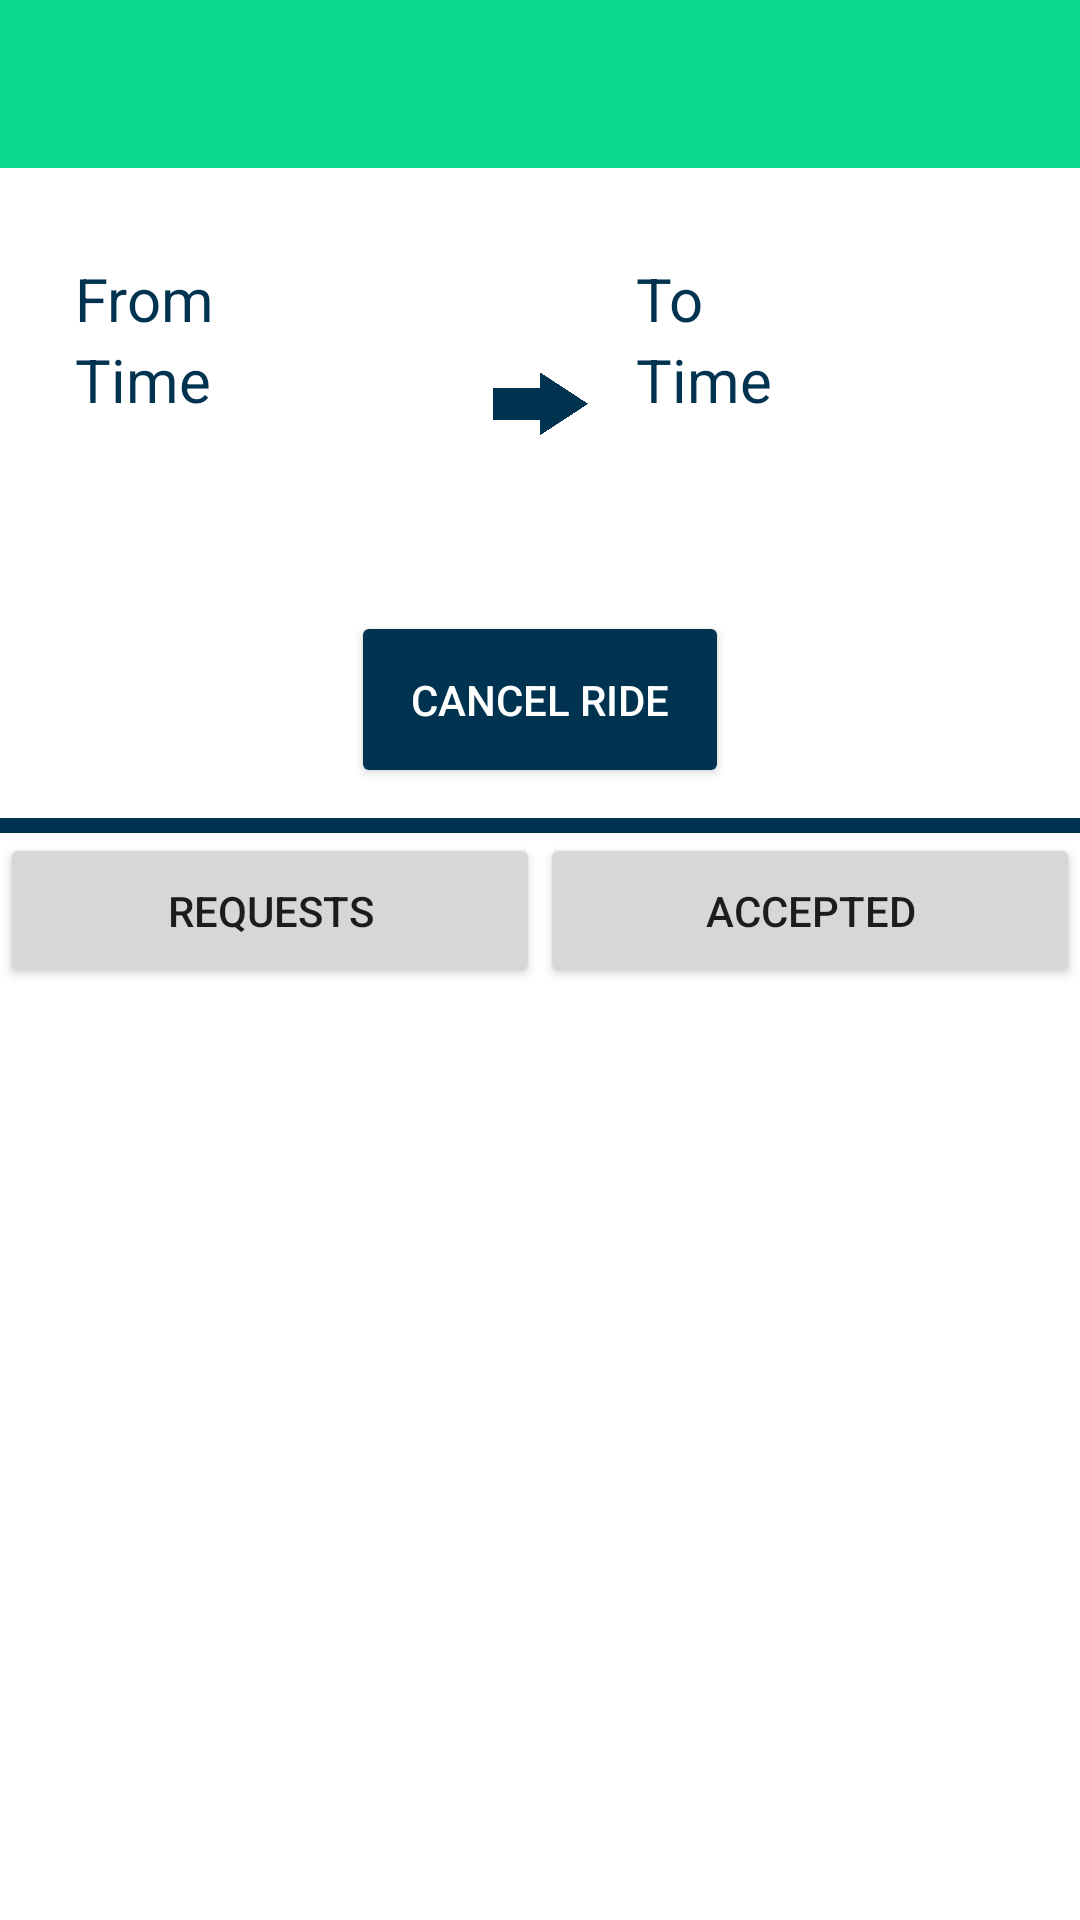

Icon click points for this 1080px×1920px phone screenshot, format point (x, y):
arrow: point (540, 404)
